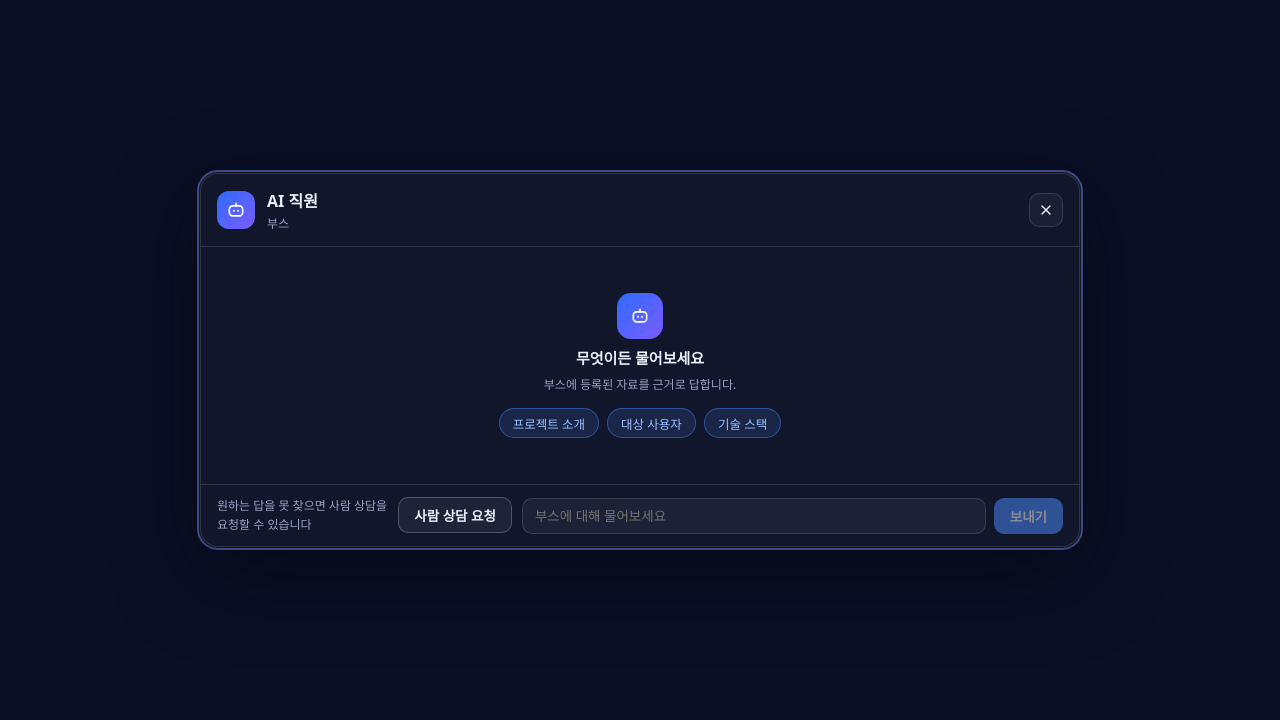
Test: AiChatOverlay 실서버 결선·SSE 렌더링 › 오버레이가 사라지면 Conversation 을 즉시 삭제한다 (S15P21A604-516)
Type "질문" into the field with placeholder "부스에 대해 물어보세요" at (754, 516), box [522,498,986,534]
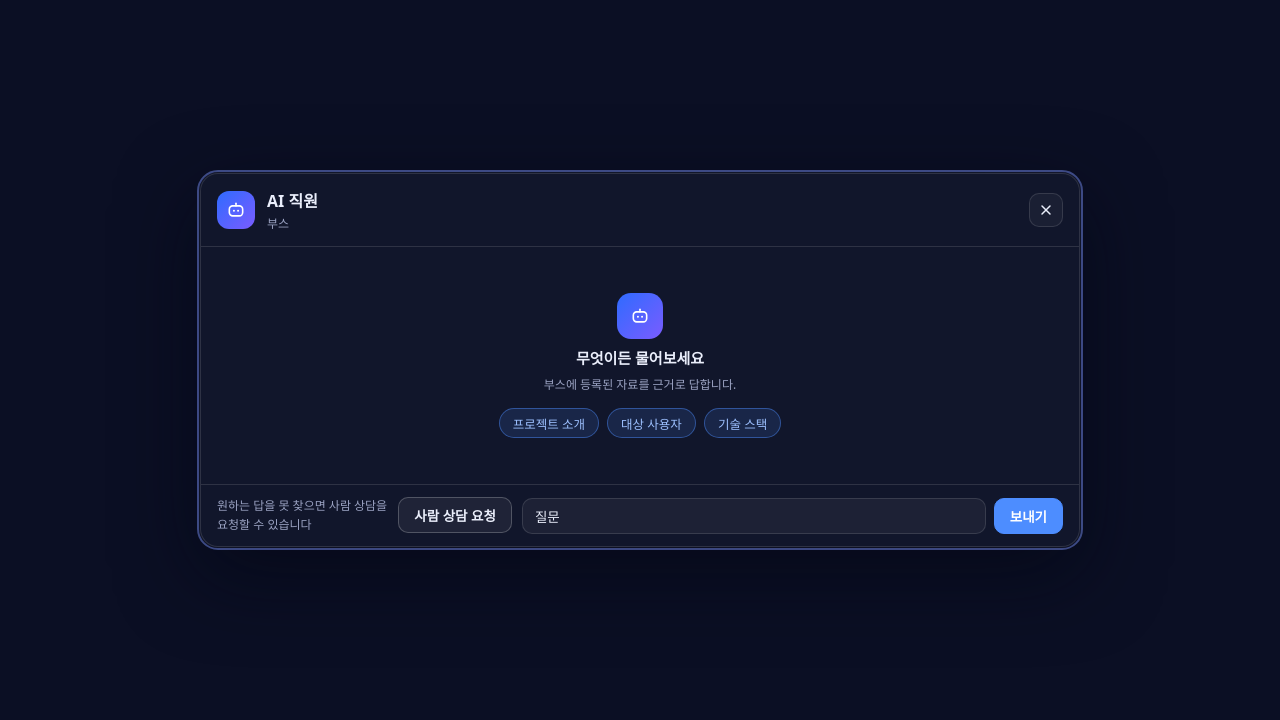
Click the button "보내기" at (1028, 516), box [994,498,1063,534]
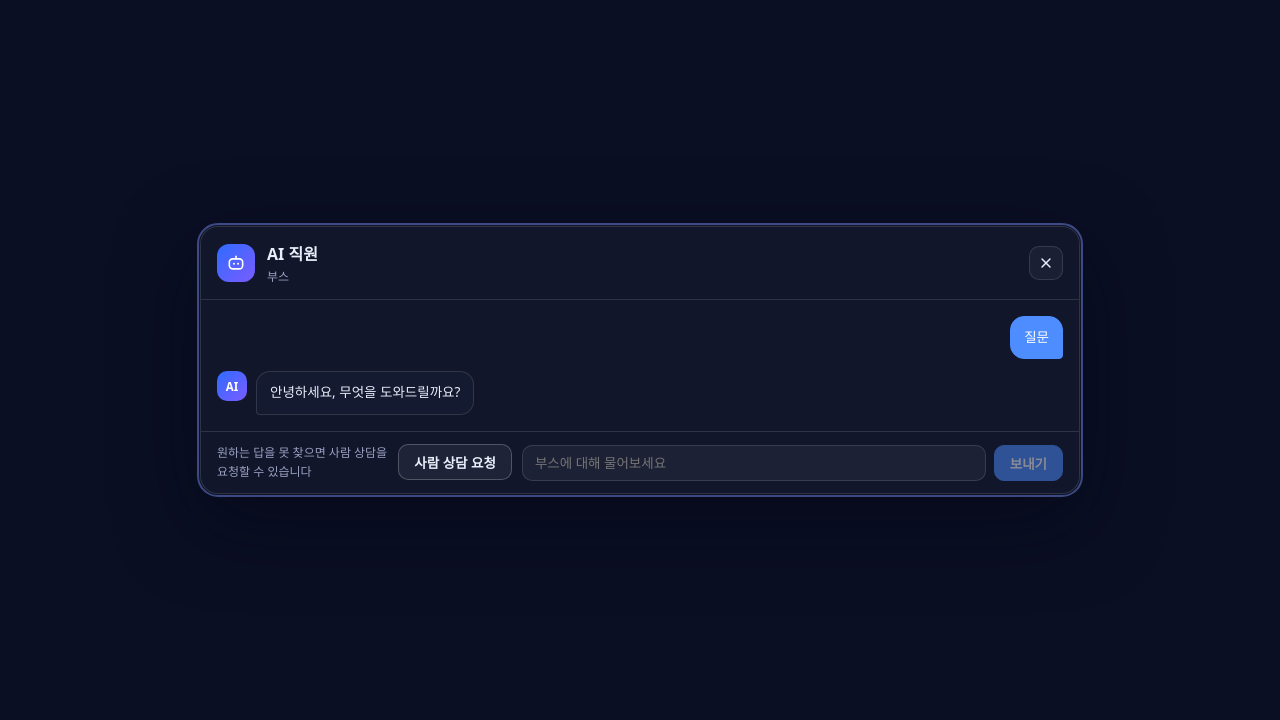
Result: the text "안녕하세요, 무엇을 도와드릴까요?" is shown at [270,382,460,404]
